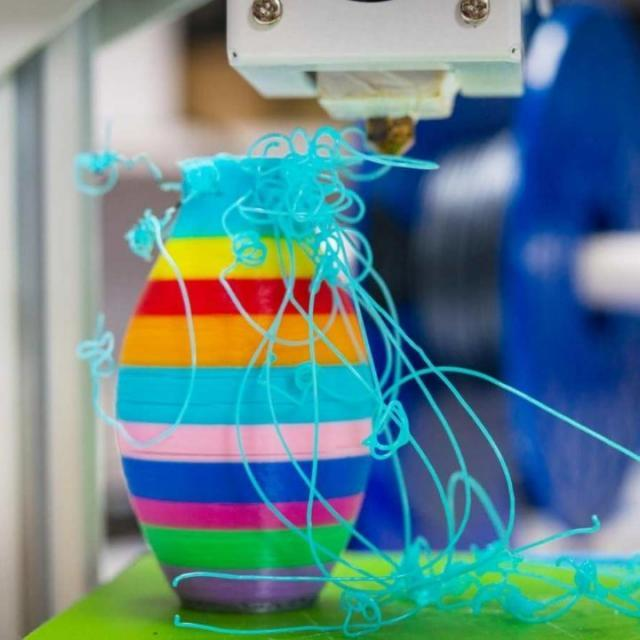Spaghetti: (229, 314, 639, 636), (238, 124, 450, 314)
